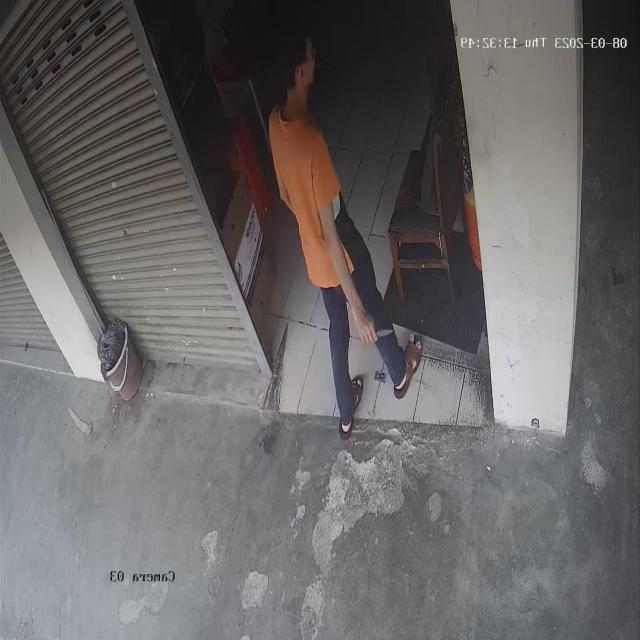Knife: (353, 308, 398, 354)
